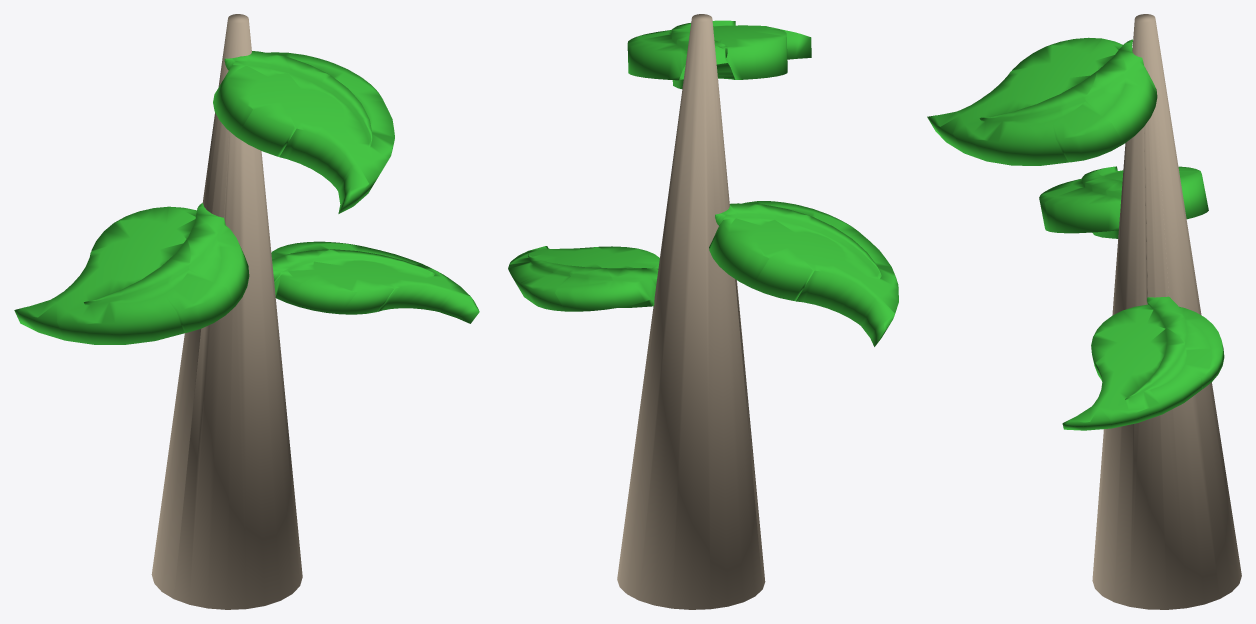
Rendered from level3.glb.
3 renders of one model, left to right at view 1: azimuth 30°, elevation 25°; view 2: azimuth 150°, elevation 25°; view 3: azimuth 270°, elevation 25°, orthographic.
Parts seen in each view (by area): view 1: obj_0.001, obj_0.003, obj_0.004; view 2: obj_0.001, obj_0.003, obj_0.004; view 3: obj_0.001, obj_0.004, obj_0.003.
Boxes of the visible parts, box(x1,y1,x2,y2) form: obj_0.001: box(151, 14, 302, 609); obj_0.003: box(14, 203, 479, 344); obj_0.004: box(213, 51, 394, 213); obj_0.001: box(617, 14, 765, 609); obj_0.003: box(508, 201, 898, 346); obj_0.004: box(627, 20, 811, 88); obj_0.001: box(1092, 14, 1241, 609); obj_0.004: box(927, 37, 1157, 165); obj_0.003: box(1039, 166, 1224, 430).
Bounding box in the file's own units: 47 × 62.26 × 31.58.
